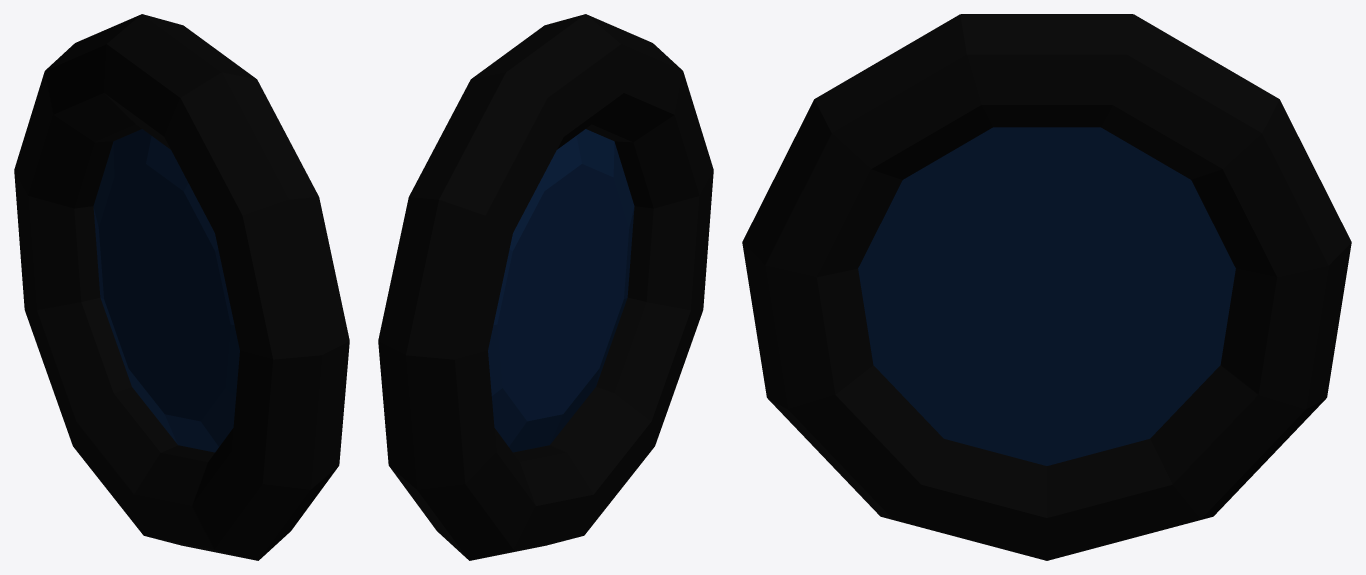
File: carWhell.fbx
3 renders of one model, left to right at view 1: azimuth 30°, elevation 25°; view 2: azimuth 150°, elevation 25°; view 3: azimuth 270°, elevation 25°, orthographic. The views are drawn at different scales.
Visible parts, largest first — view 1: Torus; view 2: Torus; view 3: Torus.
Part boxes in pixels (<box>): Torus: <box>14,14,349,560</box>; Torus: <box>378,14,713,560</box>; Torus: <box>742,14,1351,560</box>.
Bounding box in the file's own units: 13.49 × 67.8 × 68.49.
